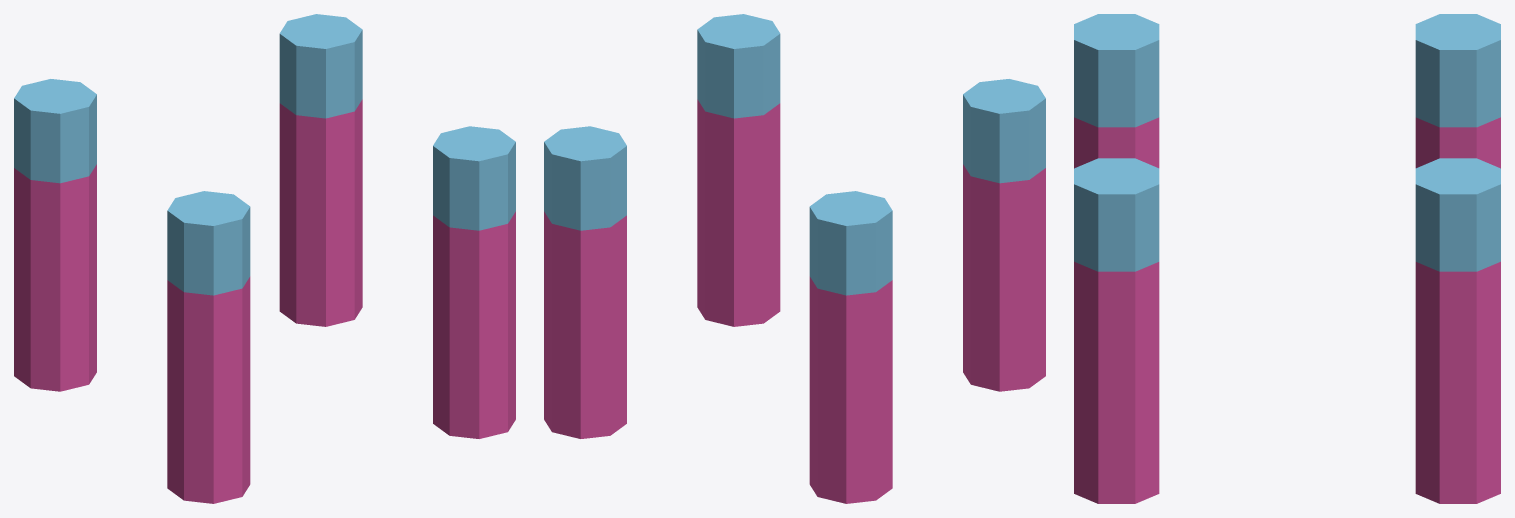
File: Playground Support 2.fbx
3 renders of one model, left to right at view 1: azimuth 30°, elevation 25°; view 2: azimuth 150°, elevation 25°; view 3: azimuth 270°, elevation 25°, orthographic. The views are drawn at different scales.
Parts seen in each view (by area): view 1: Playground Support 2; view 2: Playground Support 2; view 3: Playground Support 2.
Part boxes in pixels (x1,y1,x2,y2): Playground Support 2: (14,14,515,503); Playground Support 2: (544,14,1045,503); Playground Support 2: (1074,14,1500,503).
Size of the model in its own units: 100 by 80 by 100.
